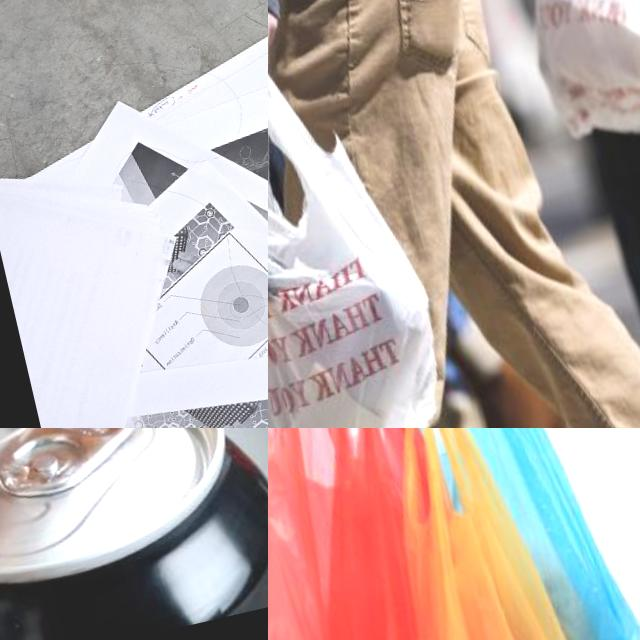aba de lata: (0, 428, 156, 504)
lata: (0, 428, 268, 640)
papel: (0, 2, 268, 428)
sacola plástica: (268, 30, 468, 428), (363, 428, 640, 640), (364, 428, 611, 640), (268, 428, 501, 640), (268, 428, 451, 640), (494, 0, 640, 197)
